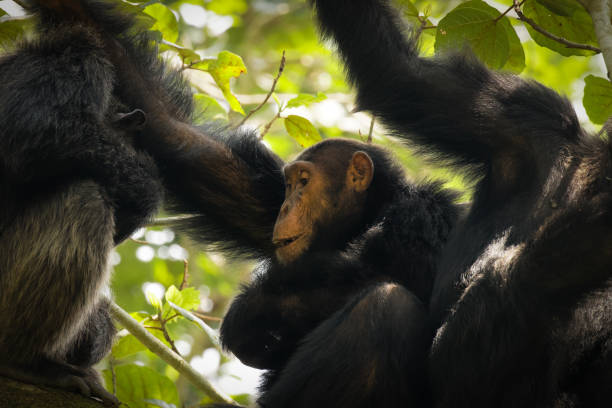chimpanzee: (249, 121, 412, 280)
